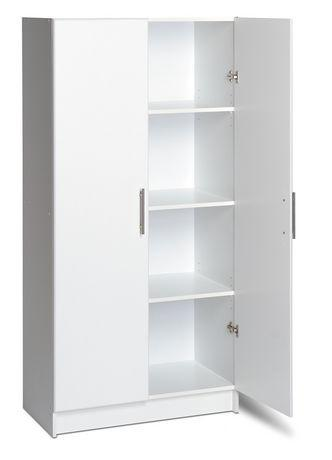cabinet_door: (60, 22, 143, 435), (233, 16, 297, 418)
handle: (137, 186, 146, 240), (290, 189, 298, 242)
